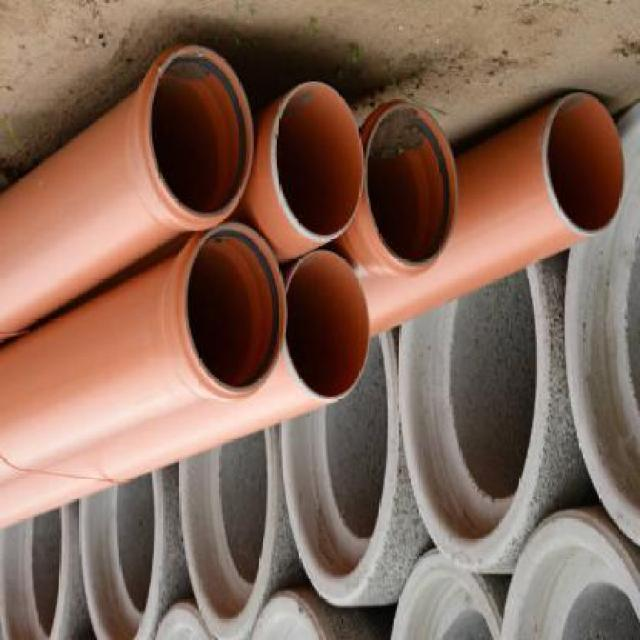pipe: (146, 42, 252, 221), (183, 223, 286, 394), (366, 100, 459, 269), (272, 80, 365, 239), (285, 250, 370, 399), (545, 93, 625, 236)
